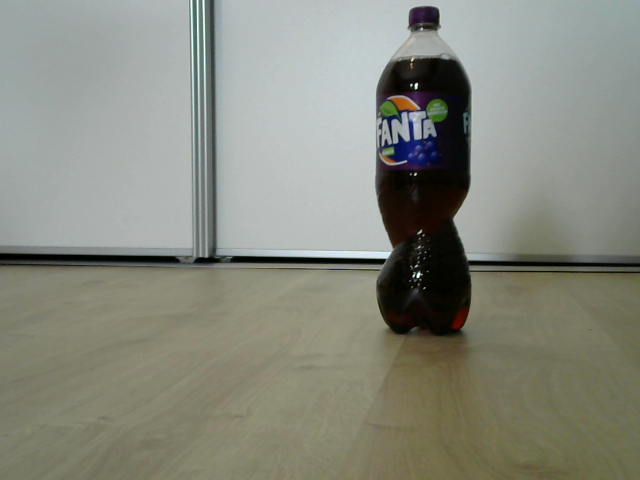bottle: (377, 6, 472, 337)
